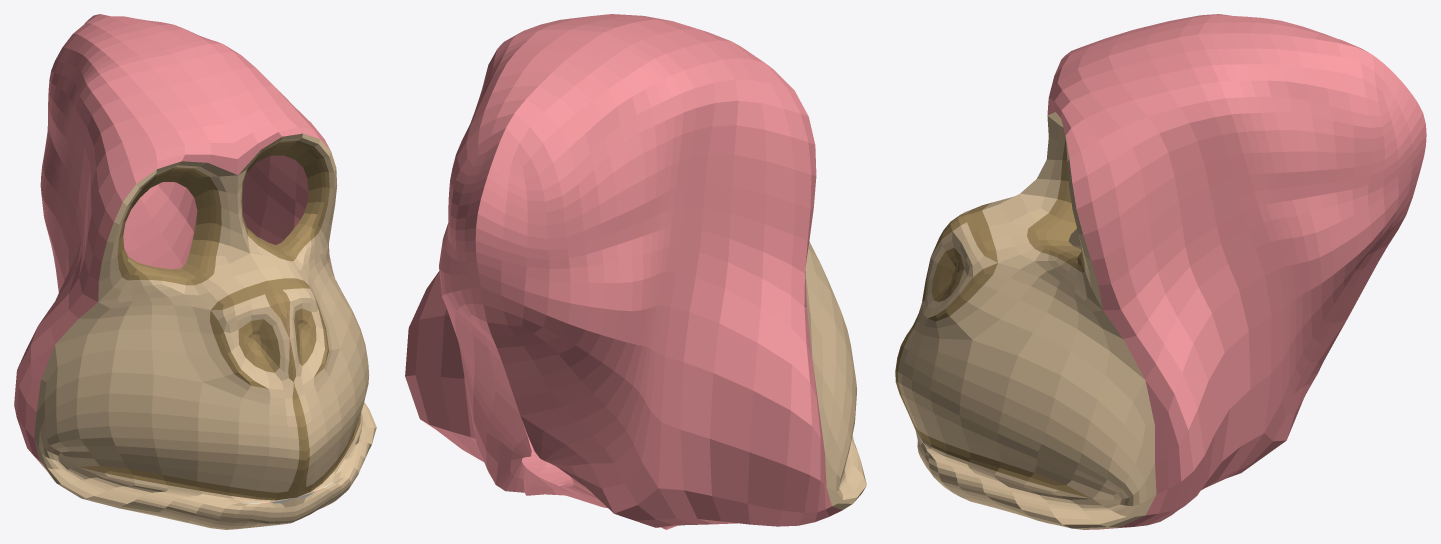
3 renders of one model, left to right at view 1: azimuth 30°, elevation 25°; view 2: azimuth 150°, elevation 25°; view 3: azimuth 270°, elevation 25°, orthographic. The views are drawn at different scales.
Visible parts, largest first — view 1: head_bored; view 2: head_bored; view 3: head_bored.
Part boxes in pixels (bbox=[...]): head_bored: bbox=[14, 14, 376, 529]; head_bored: bbox=[405, 14, 866, 529]; head_bored: bbox=[895, 14, 1426, 529].
Bounding box in the file's own units: 1.1 × 1.3 × 1.39.
